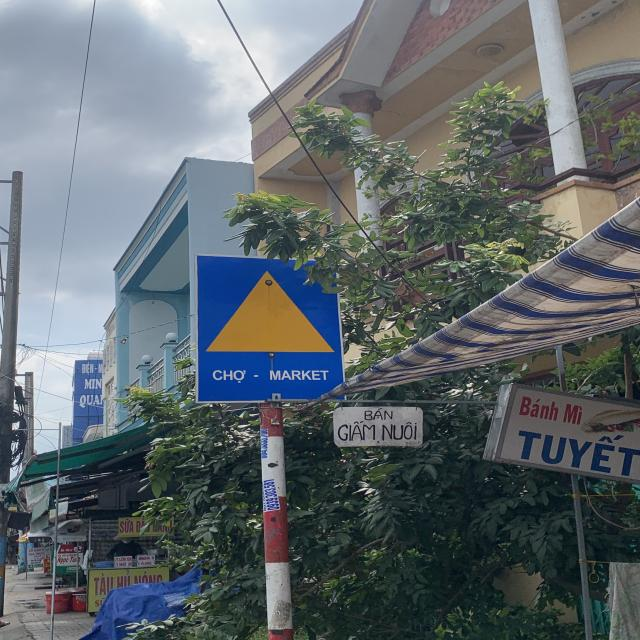Cho_Quay_Xe: (194, 254, 344, 401)
